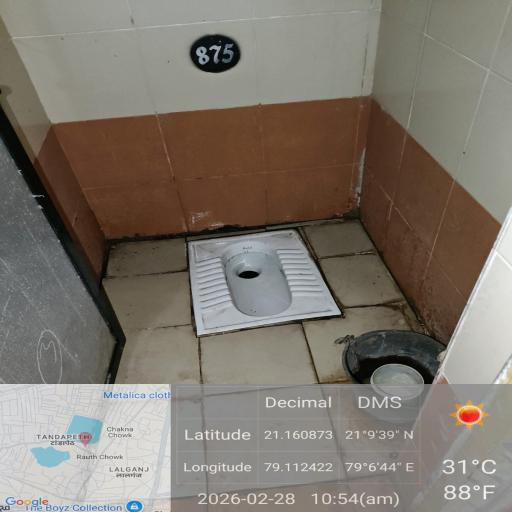clean_floor: (19, 12, 497, 224)
clean_indian: (127, 220, 357, 341)
partial_dirty_floor: (69, 301, 512, 503)
